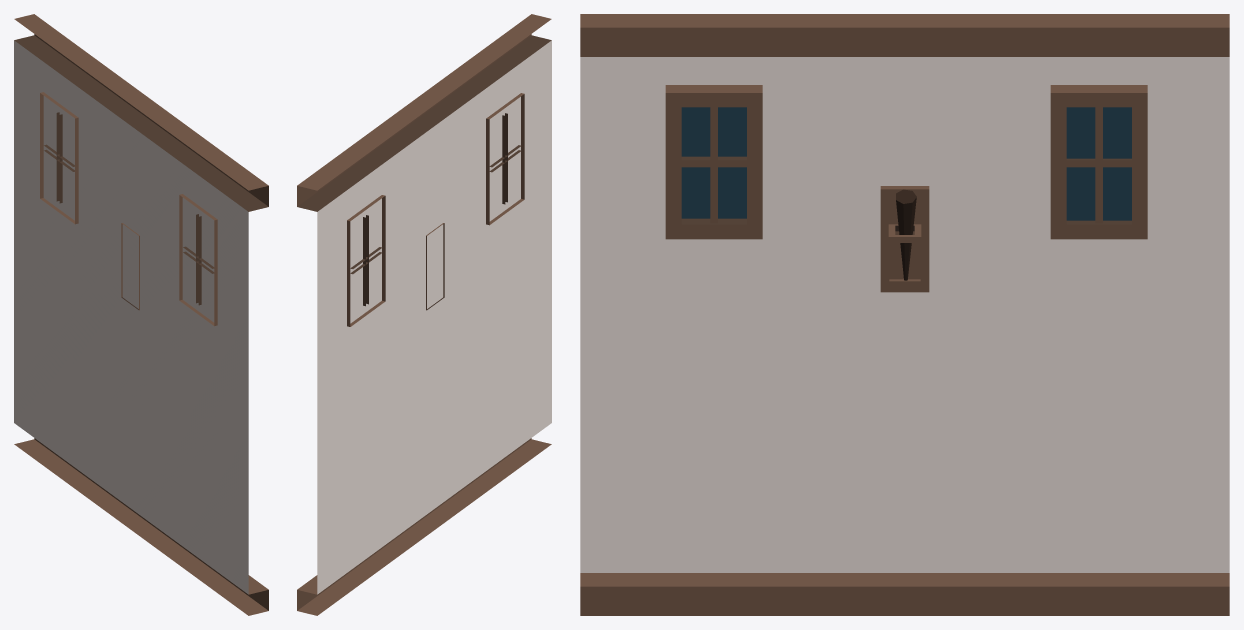
Rendered from basic_wall_008.fbx.
The picture shows the model from 3 angles, left to right: view 1: azimuth 30°, elevation 25°; view 2: azimuth 150°, elevation 25°; view 3: azimuth 270°, elevation 25°; orthographic projection. The views are drawn at different scales.
Parts seen in each view (by area): view 1: Base_Wall.008; view 2: Base_Wall.008; view 3: Base_Wall.008.
Boxes of the visible parts, x1=… form: Base_Wall.008: x1=14, y1=14, x2=268, y2=615; Base_Wall.008: x1=297, y1=14, x2=551, y2=615; Base_Wall.008: x1=580, y1=14, x2=1229, y2=615.
Size of the model in its own units: 200 by 15.66 by 200.
